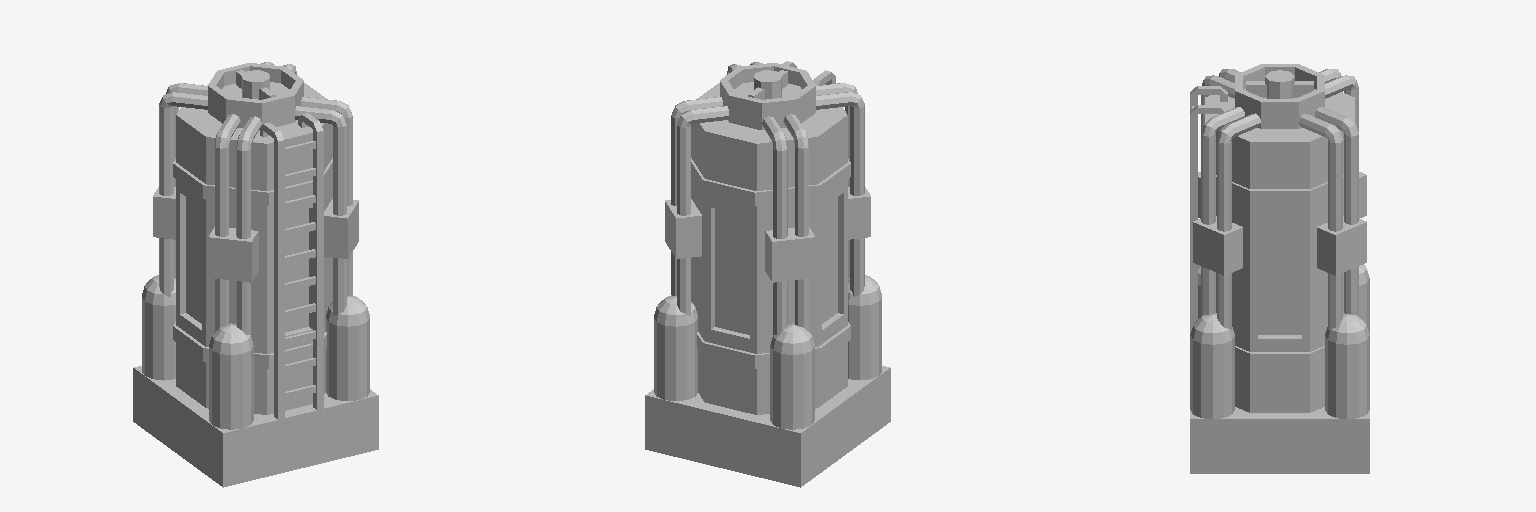
Rendered from acidizer.obj.
3 renders of one model, left to right at view 1: azimuth 30°, elevation 25°; view 2: azimuth 150°, elevation 25°; view 3: azimuth 270°, elevation 25°, orthographic.
Visible parts, largest first — view 1: Body, Spinner; view 2: Body, Spinner; view 3: Body, Spinner.
Boxes of the visible parts, x1,y1,x2,y2 form: Body: [133, 62, 378, 487]; Spinner: [236, 70, 275, 99]; Body: [645, 61, 890, 487]; Spinner: [748, 70, 787, 99]; Body: [1190, 64, 1369, 473]; Spinner: [1246, 70, 1313, 98].
Size of the model in its own units: 3 by 6.62 by 3.